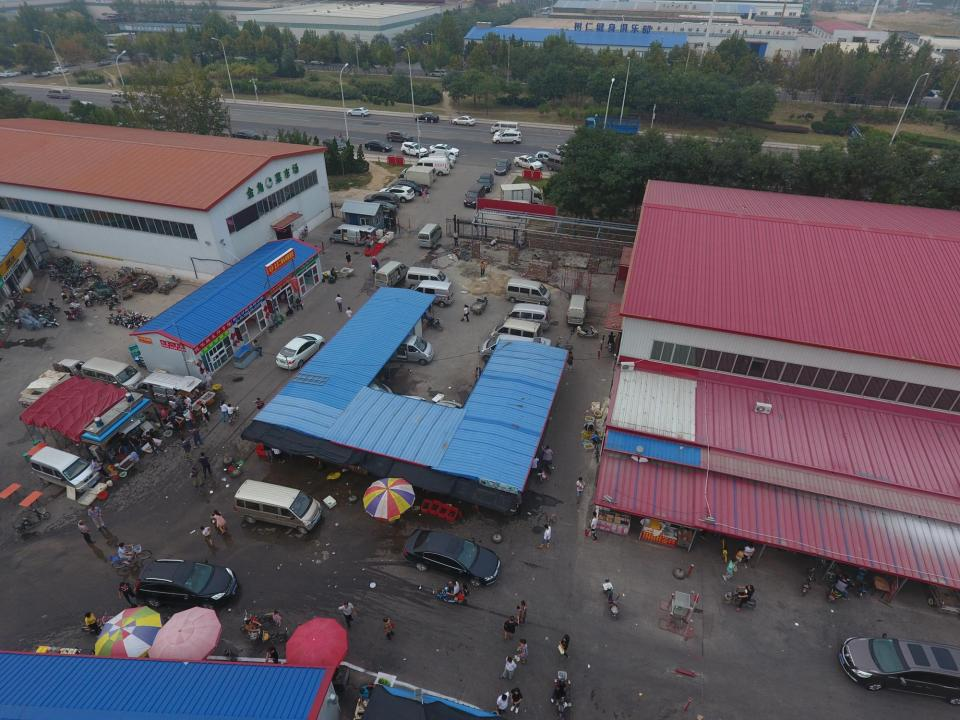car: (403, 528, 501, 586), (276, 333, 326, 369), (361, 200, 398, 218), (392, 180, 427, 197), (513, 155, 543, 171), (556, 143, 587, 158), (429, 143, 460, 157), (136, 109, 166, 122), (364, 139, 393, 152), (322, 137, 347, 151), (476, 173, 494, 192), (231, 130, 260, 141), (431, 151, 456, 162), (452, 115, 475, 126), (494, 129, 521, 138), (346, 107, 370, 117), (415, 113, 439, 122), (0, 70, 20, 78), (21, 66, 41, 74), (430, 70, 448, 78), (232, 54, 250, 61), (310, 59, 326, 65), (274, 57, 290, 63), (292, 58, 307, 64), (96, 60, 111, 66)
truck: (18, 358, 91, 411), (583, 114, 640, 139), (396, 167, 434, 188)
van: (839, 633, 960, 706), (135, 558, 237, 612), (234, 480, 321, 534), (30, 446, 101, 495), (133, 372, 202, 409), (374, 396, 426, 443), (80, 356, 144, 394), (410, 400, 462, 446), (479, 334, 551, 364), (368, 335, 434, 365), (328, 381, 394, 410), (504, 277, 551, 307), (490, 318, 543, 343), (408, 280, 454, 307), (504, 304, 550, 330), (405, 266, 450, 292), (330, 224, 376, 246), (374, 261, 408, 289), (408, 157, 450, 176), (566, 295, 590, 326), (378, 185, 414, 203), (417, 223, 442, 248), (364, 191, 400, 208), (546, 154, 573, 173), (464, 184, 485, 208), (408, 165, 436, 181), (400, 142, 428, 158), (68, 100, 95, 116), (490, 121, 520, 135), (428, 154, 454, 168), (492, 132, 521, 144), (387, 130, 414, 142), (534, 150, 557, 164), (494, 159, 512, 175), (46, 88, 70, 99), (110, 93, 129, 103), (32, 69, 52, 77), (63, 58, 80, 67), (43, 61, 61, 68), (53, 67, 69, 74)
